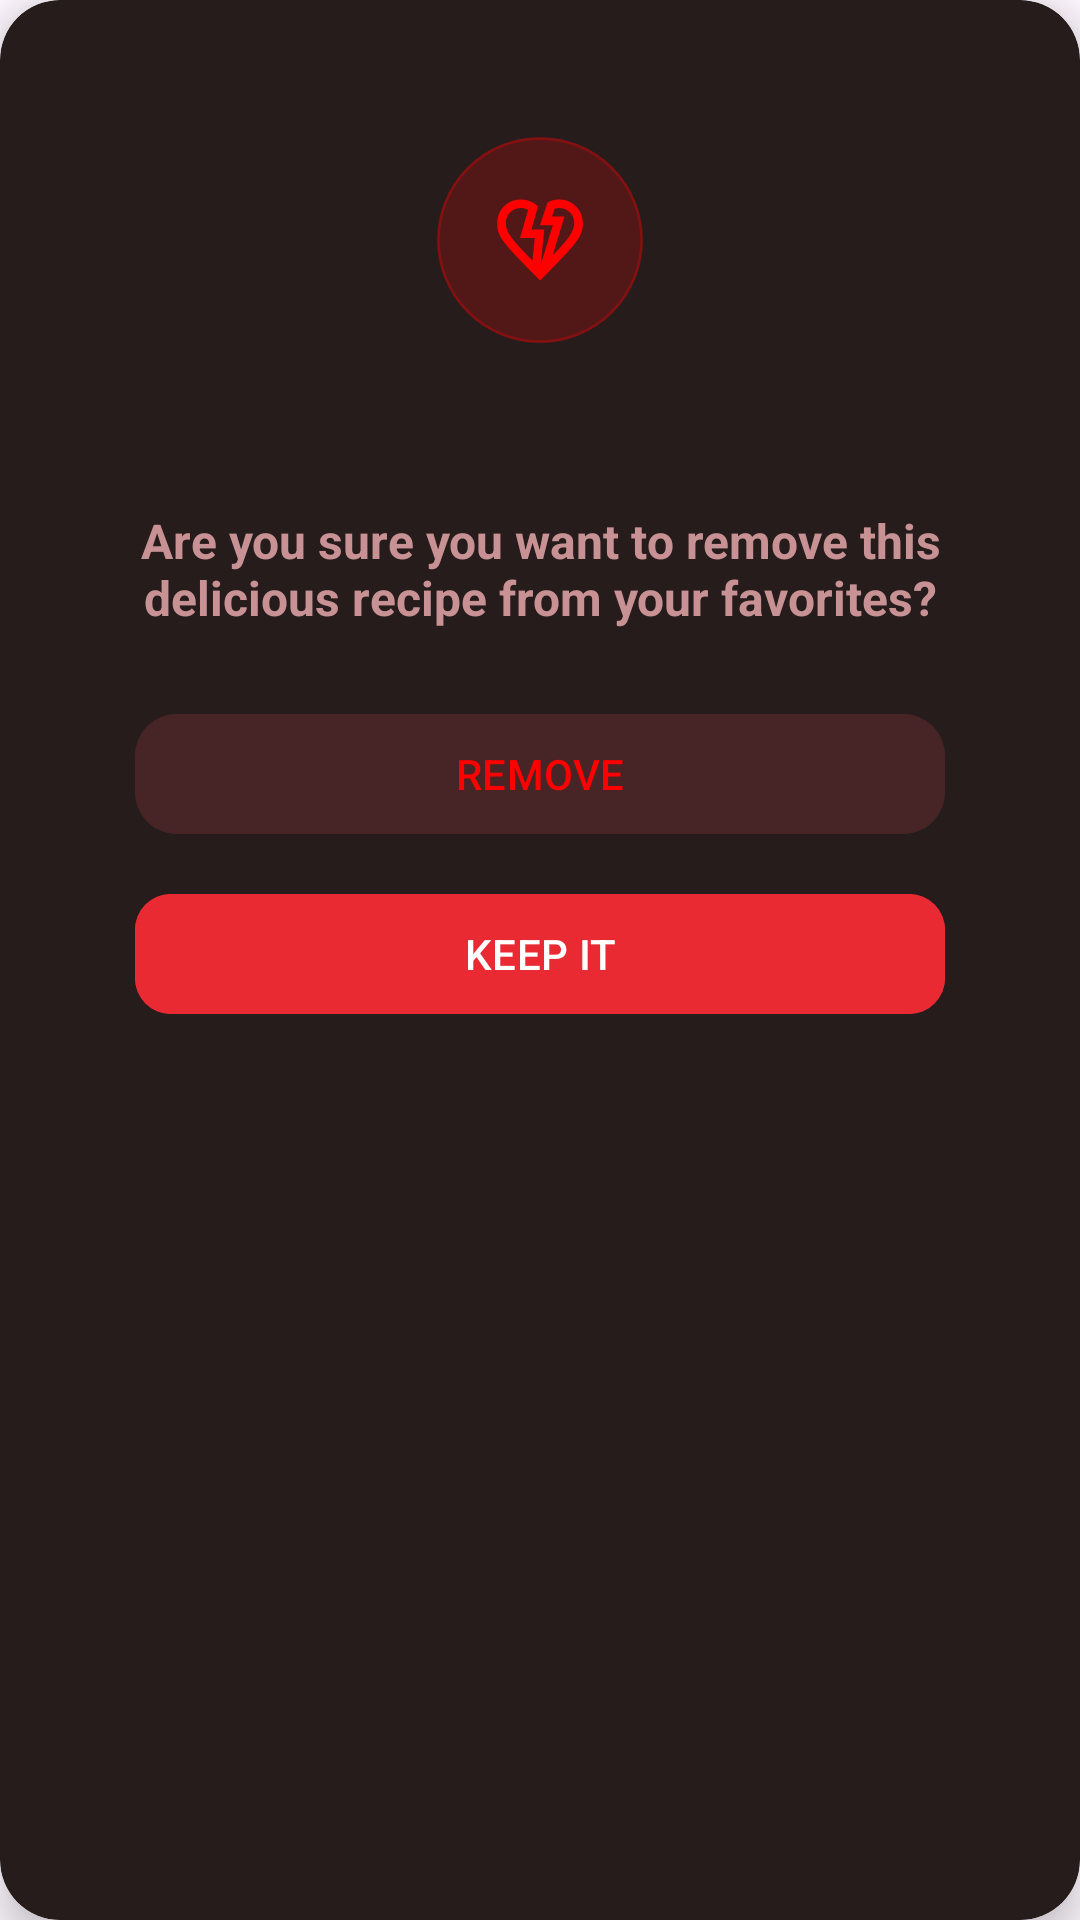

Where icons sit on this 1080×1920 app screen, as bbox=[x1, y1, x2, y2]:
broken heart: bbox=[437, 137, 643, 343]
